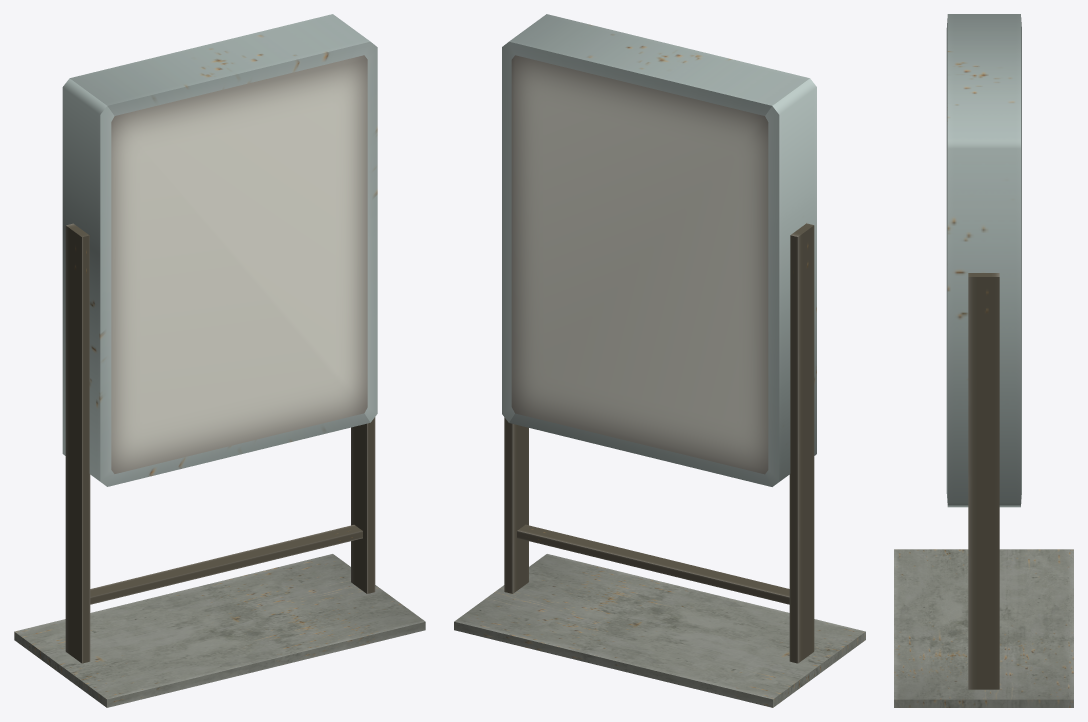
The model's file is menustand01a.fbx.
3 renders of one model, left to right at view 1: azimuth 30°, elevation 25°; view 2: azimuth 150°, elevation 25°; view 3: azimuth 270°, elevation 25°, orthographic. The views are drawn at different scales.
Parts seen in each view (by area): view 1: menustand01a; view 2: menustand01a; view 3: menustand01a.
Boxes of the visible parts, box(x1,y1,x2,y2) form: menustand01a: box(14, 14, 425, 707); menustand01a: box(454, 14, 865, 707); menustand01a: box(894, 14, 1073, 707).
Size of the model in its own units: 62.43 by 108 by 31.49.
